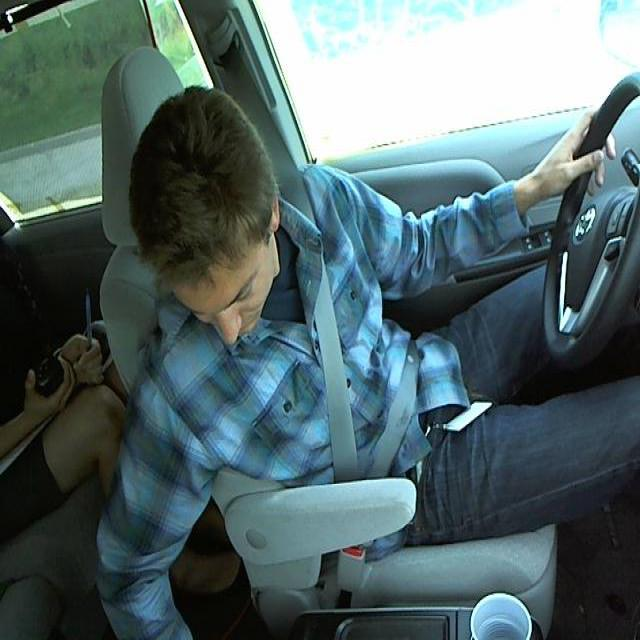seatbelt: (281, 213, 421, 490)
